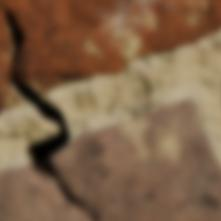broken_brick: (0, 97, 220, 220), (0, 0, 220, 94), (0, 6, 27, 114)
crack: (0, 2, 91, 218)
